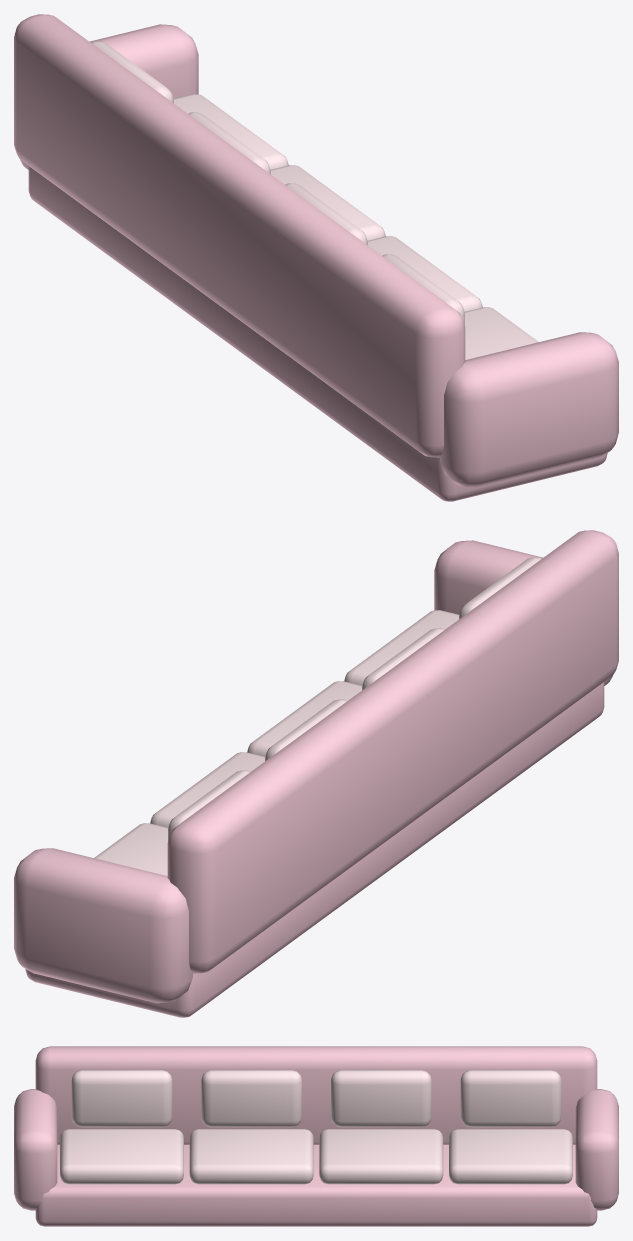
Rendered from SM_Heaven_Couch.fbx.
3 renders of one model, top to bottom at view 1: azimuth 30°, elevation 25°; view 2: azimuth 150°, elevation 25°; view 3: azimuth 270°, elevation 25°, orthographic. The views are drawn at different scales.
Visible parts, largest first — view 1: SM_Heaven_Couch; view 2: SM_Heaven_Couch; view 3: SM_Heaven_Couch.
Part boxes in pixels (left/top/right/bottom): SM_Heaven_Couch: left=14, top=14, right=618, bottom=501; SM_Heaven_Couch: left=14, top=530, right=618, bottom=1017; SM_Heaven_Couch: left=14, top=1046, right=618, bottom=1226.
Bounding box in the file's own units: 99.5 × 420 × 97.5.
